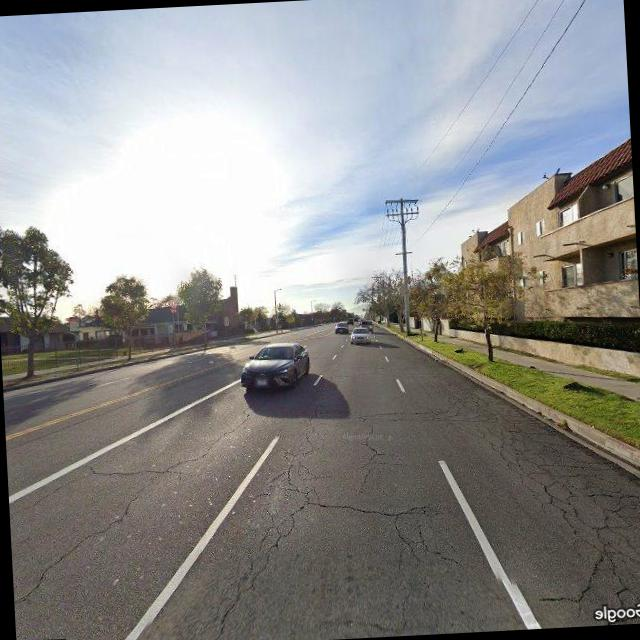crack: (173, 405, 462, 640), (449, 376, 640, 622)
pothole: (8, 405, 262, 609), (8, 465, 98, 524)
